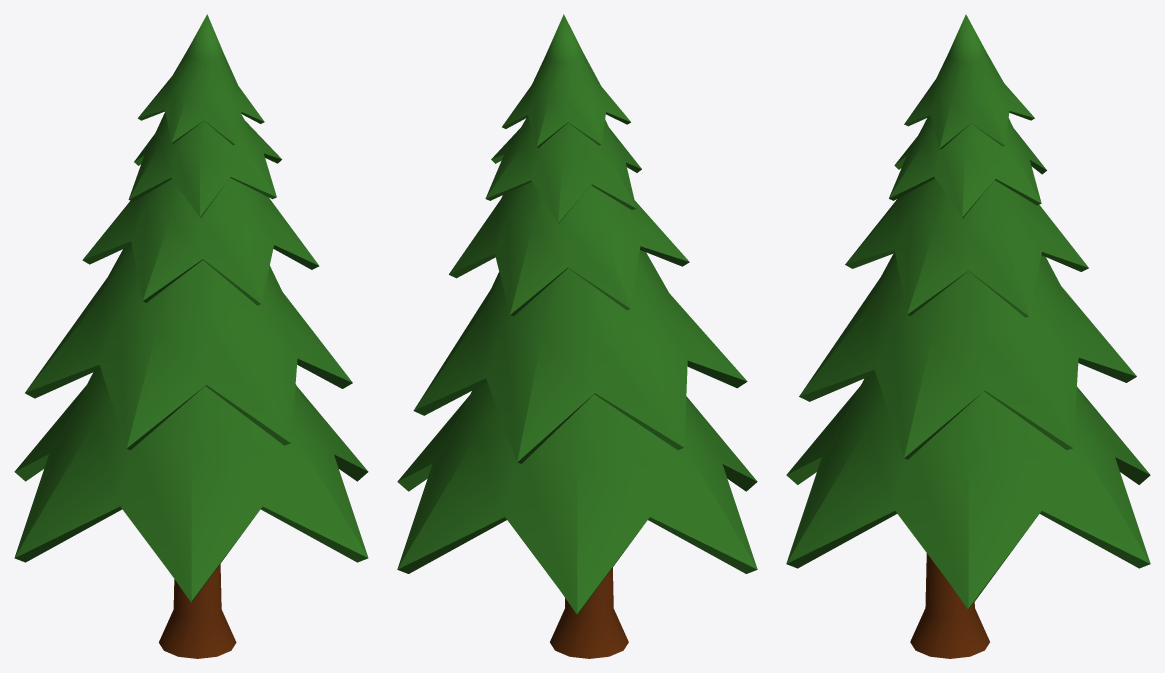
Rendered from tree.fbx.
3 renders of one model, left to right at view 1: azimuth 30°, elevation 25°; view 2: azimuth 150°, elevation 25°; view 3: azimuth 270°, elevation 25°, orthographic. The views are drawn at different scales.
Visible parts, largest first — view 1: big tree; view 2: big tree; view 3: big tree.
Part boxes in pixels (x1,y1,x2,y2): big tree: [14, 14, 368, 658]; big tree: [397, 14, 757, 658]; big tree: [786, 14, 1150, 658].
Size of the model in its own units: 435 by 725 by 376.
